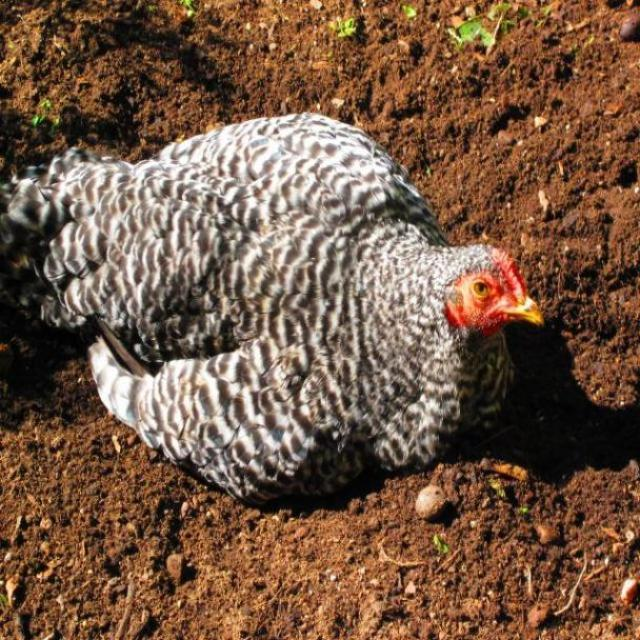Chicken: (1, 117, 541, 499)
